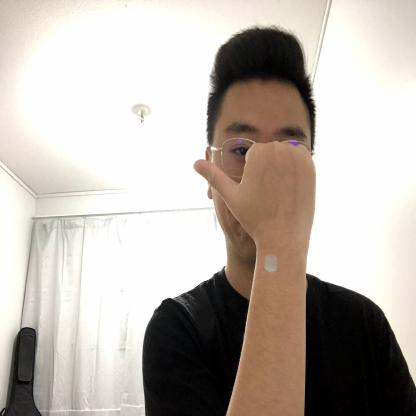right: (194, 138, 319, 253)
